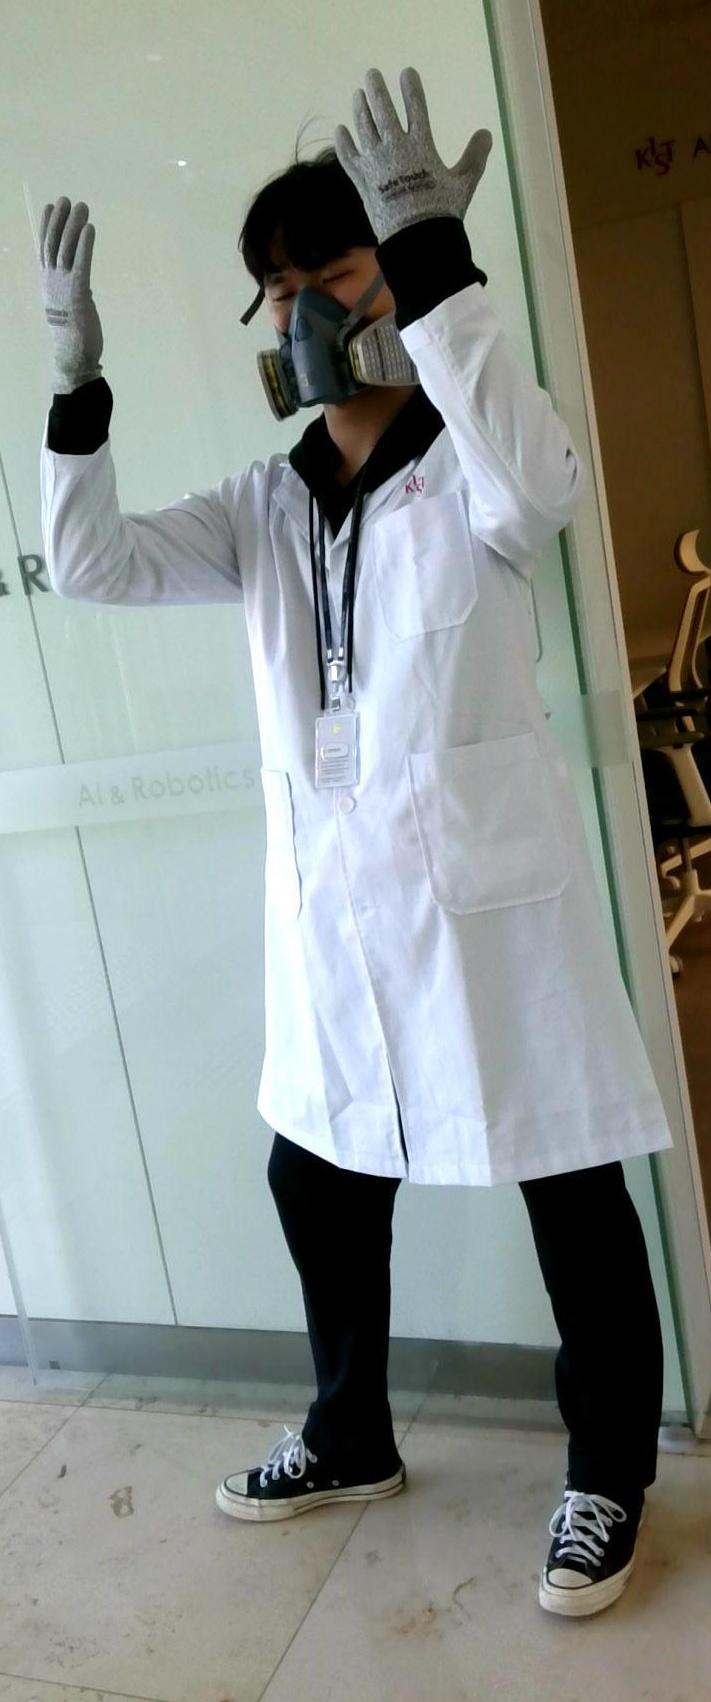lab_coat: (128, 462, 626, 1159)
